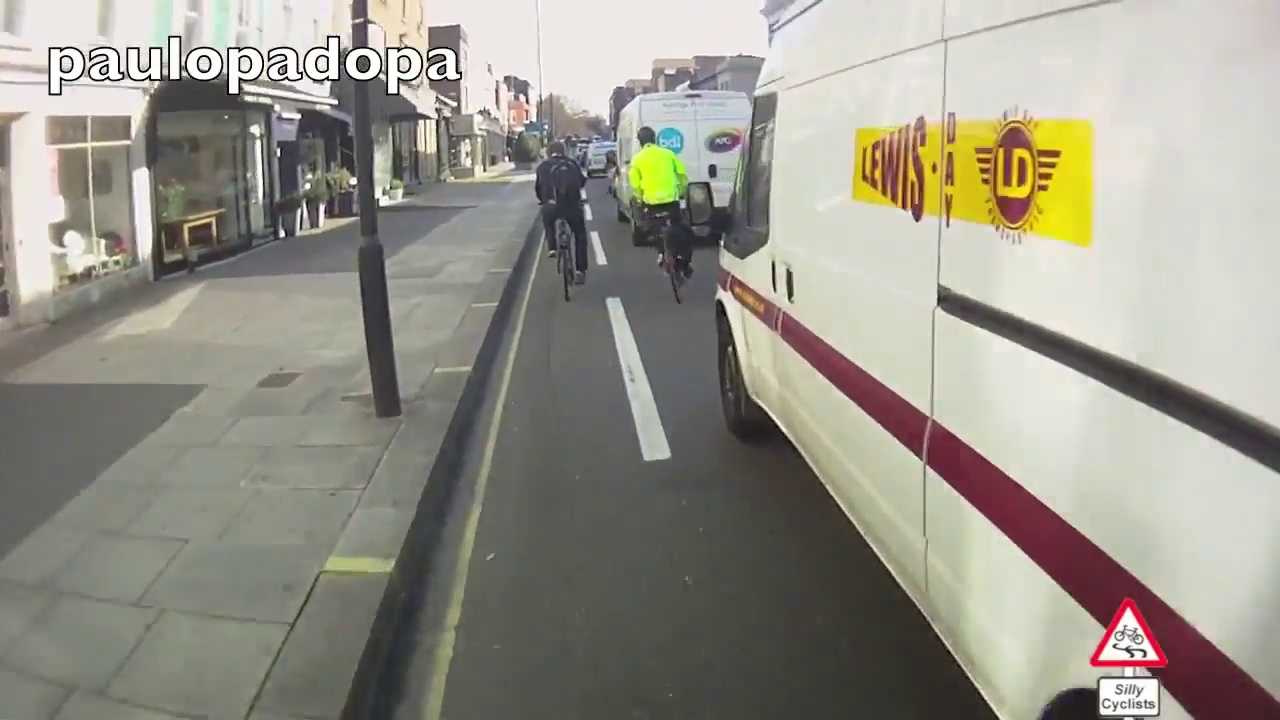cyclist_back: (628, 123, 700, 306), (529, 132, 596, 306)
